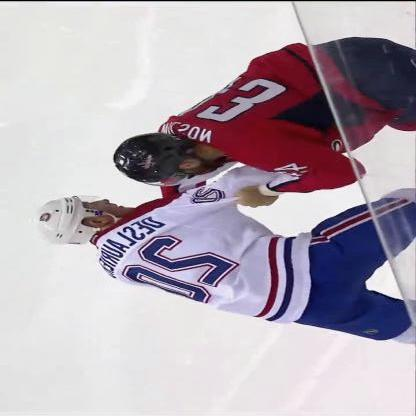voilence: (32, 44, 389, 342)
